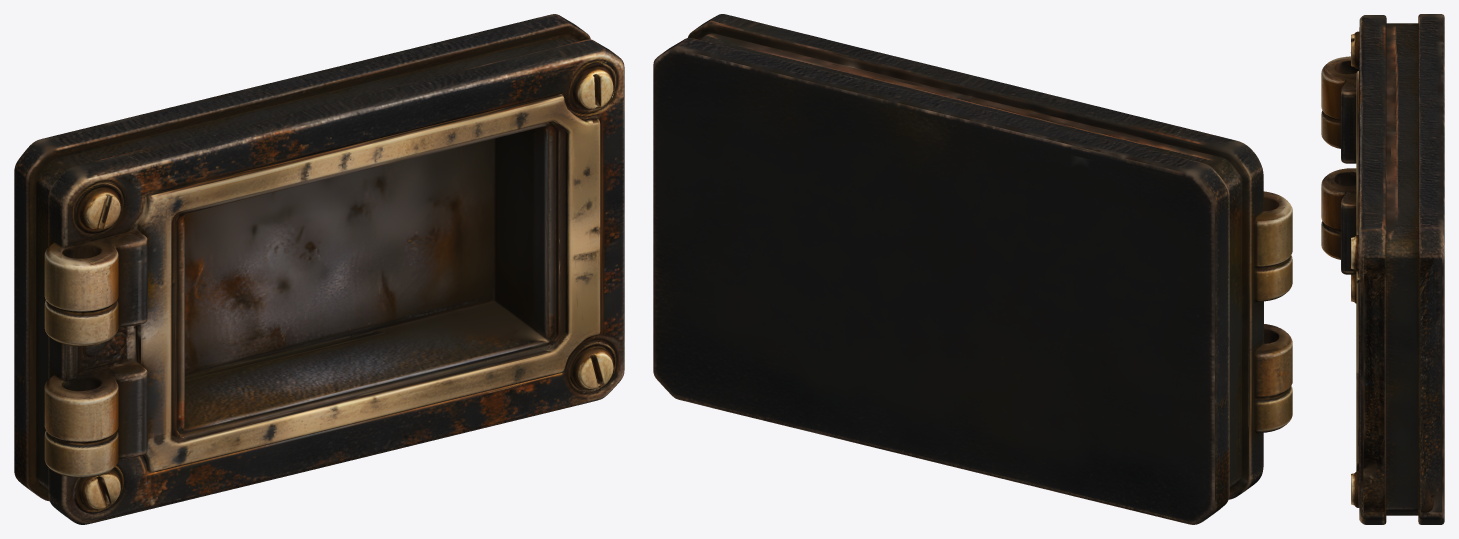
The model's file is secret_hole.glb.
3 views of the same model, side by side, from view 1: azimuth 30°, elevation 25°; view 2: azimuth 150°, elevation 25°; view 3: azimuth 270°, elevation 25° (orthographic). The views are drawn at different scales.
Visible parts, largest first — view 1: Mesh_0; view 2: Mesh_0; view 3: Mesh_0.
Part boxes in pixels (x1=…): Mesh_0: x1=14, y1=14, x2=624, y2=524; Mesh_0: x1=653, y1=14, x2=1292, y2=524; Mesh_0: x1=1321, y1=14, x2=1444, y2=524.
Bounding box in the file's own units: 1.05 × 0.6085 × 0.2285.
Materials: 1 (1 with a texture image).
